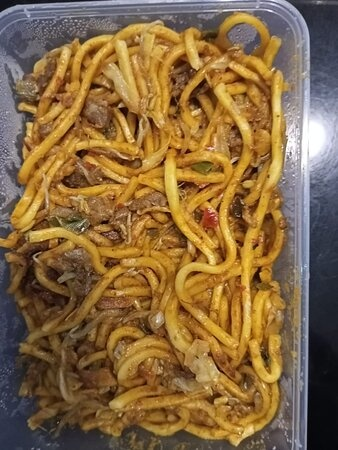mie_aceh: (4, 28, 292, 440)
